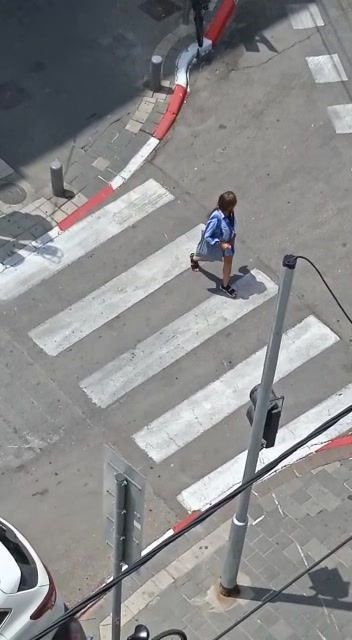crosswalk: (11, 203, 325, 471)
person: (185, 175, 256, 315)
